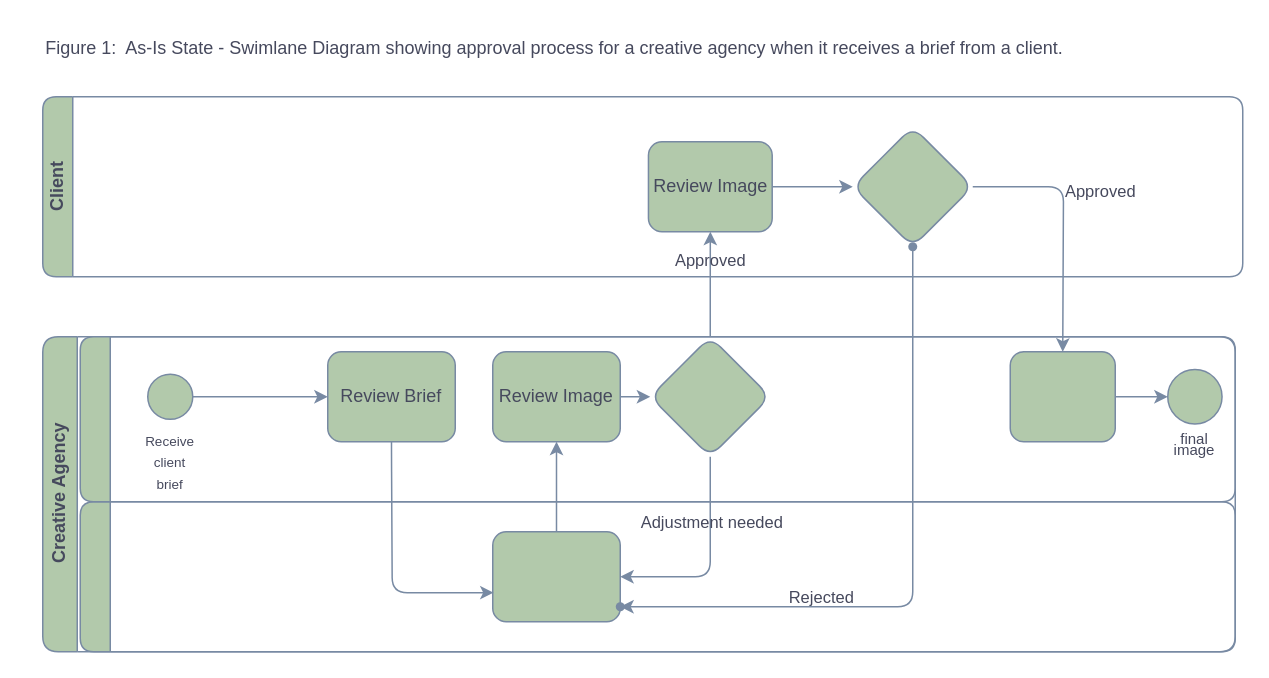
This 1269x678 diagram has some shape labels left out. The shapes that lost their labels are listed below. From the top down, each one's box as (x1, y1, x2, y2) in pixels, then its label:
(1009, 350, 1115, 442): Finalize Image
(79, 335, 1235, 502): Director
(491, 530, 620, 622): Design Image
(79, 500, 1235, 652): Designer
